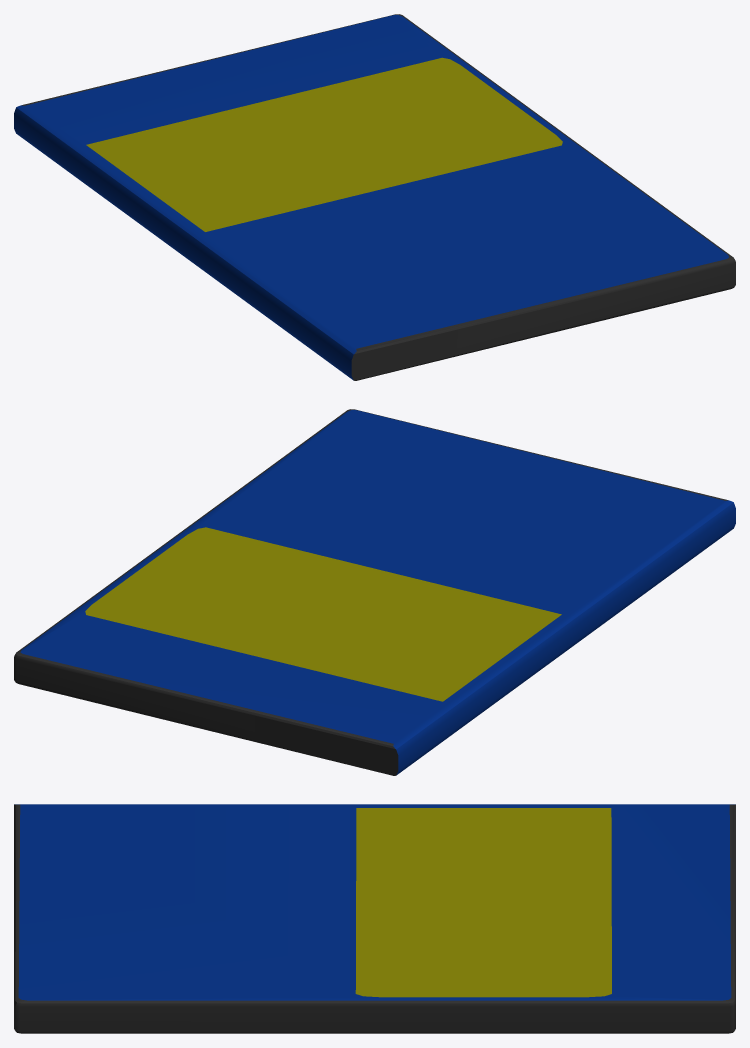
The model's file is dvd.fbx.
3 views of the same model, one above another, from view 1: azimuth 30°, elevation 25°; view 2: azimuth 150°, elevation 25°; view 3: azimuth 270°, elevation 25° (orthographic). The views are drawn at different scales.
Visible parts, largest first — view 1: pCube1; view 2: pCube1; view 3: pCube1.
Part boxes in pixels (box(x1,y1,x2,y2)): pCube1: box(14, 14, 735, 380); pCube1: box(14, 409, 735, 775); pCube1: box(14, 804, 735, 1033).
Bounding box in the file's own units: 315 × 23.96 × 477.
